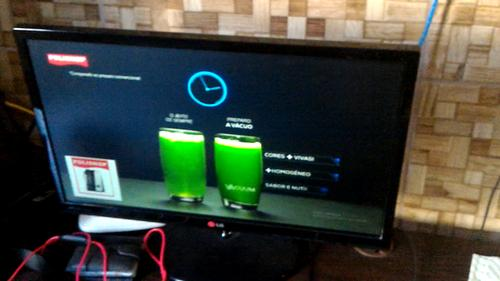Polishop #1: (63, 154, 122, 201)
